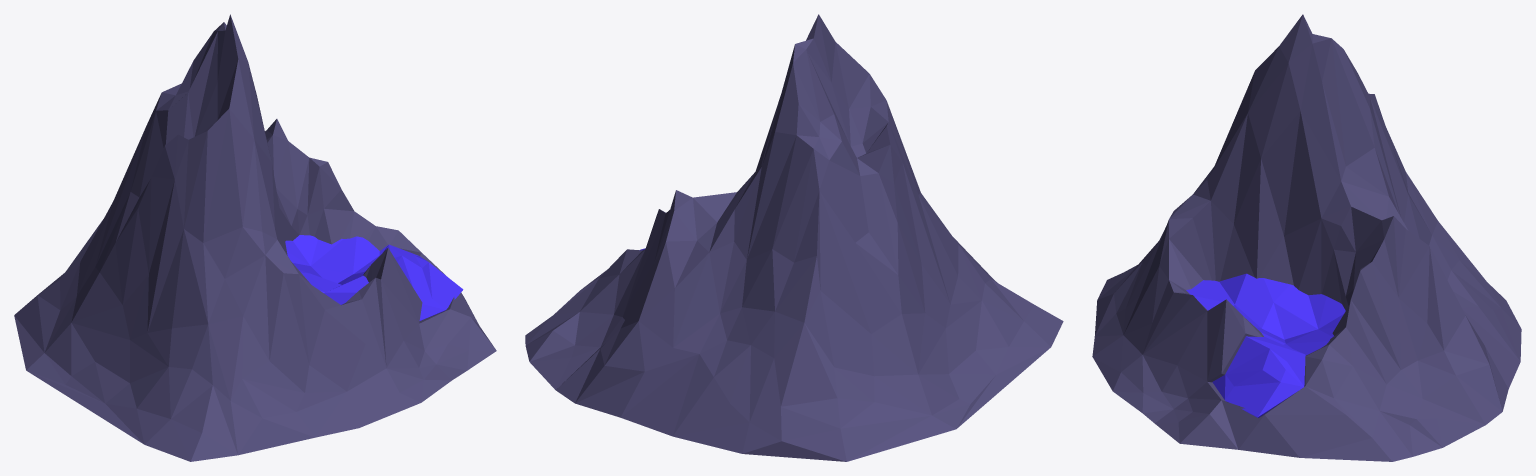
The model's file is VL_Mountain01.fbx.
3 views of the same model, side by side, from view 1: azimuth 30°, elevation 25°; view 2: azimuth 150°, elevation 25°; view 3: azimuth 270°, elevation 25° (orthographic). The views are drawn at different scales.
Parts seen in each view (by area): view 1: VL_Mountain01; view 2: VL_Mountain01; view 3: VL_Mountain01.
Boxes of the visible parts, x1,y1,x2,y2 form: VL_Mountain01: [14, 14, 496, 461]; VL_Mountain01: [525, 14, 1063, 461]; VL_Mountain01: [1092, 14, 1521, 461].
Bounding box in the file's own units: 407 × 322 × 377.
Materials: 1 (1 with a texture image).
